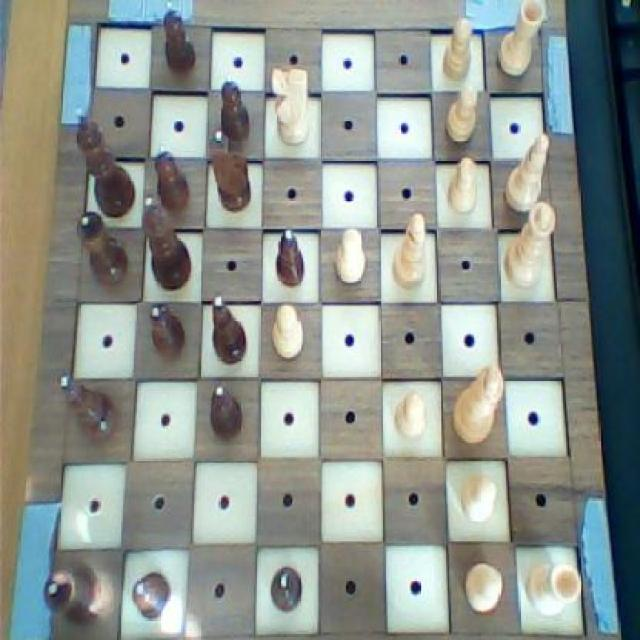bishop: (54, 369, 118, 448), (206, 286, 252, 371)
black-bishop: (71, 103, 136, 218)
black-king: (203, 126, 255, 215)
black-knight: (157, 0, 200, 81), (204, 378, 248, 446), (152, 145, 192, 216), (146, 298, 189, 364), (217, 70, 252, 146), (128, 566, 172, 626), (274, 224, 308, 294), (268, 563, 305, 615)
black-pawn: (142, 192, 196, 292)
black-queen: (74, 208, 131, 287), (40, 562, 105, 630)
black-rook: (504, 129, 556, 215), (386, 208, 431, 293)
white-bishop: (449, 362, 507, 451)
white-king: (270, 66, 318, 149)
white-knight: (440, 80, 483, 148), (443, 150, 482, 218), (457, 469, 501, 529), (388, 384, 430, 444), (438, 15, 474, 84), (462, 558, 503, 618), (331, 226, 368, 289), (270, 298, 306, 362)
white-pawn: (502, 202, 558, 293)
white-queen: (494, 0, 546, 83), (522, 560, 586, 619)
